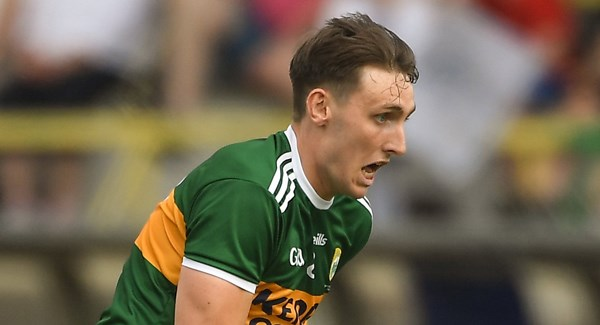player: (129, 25, 413, 323)
